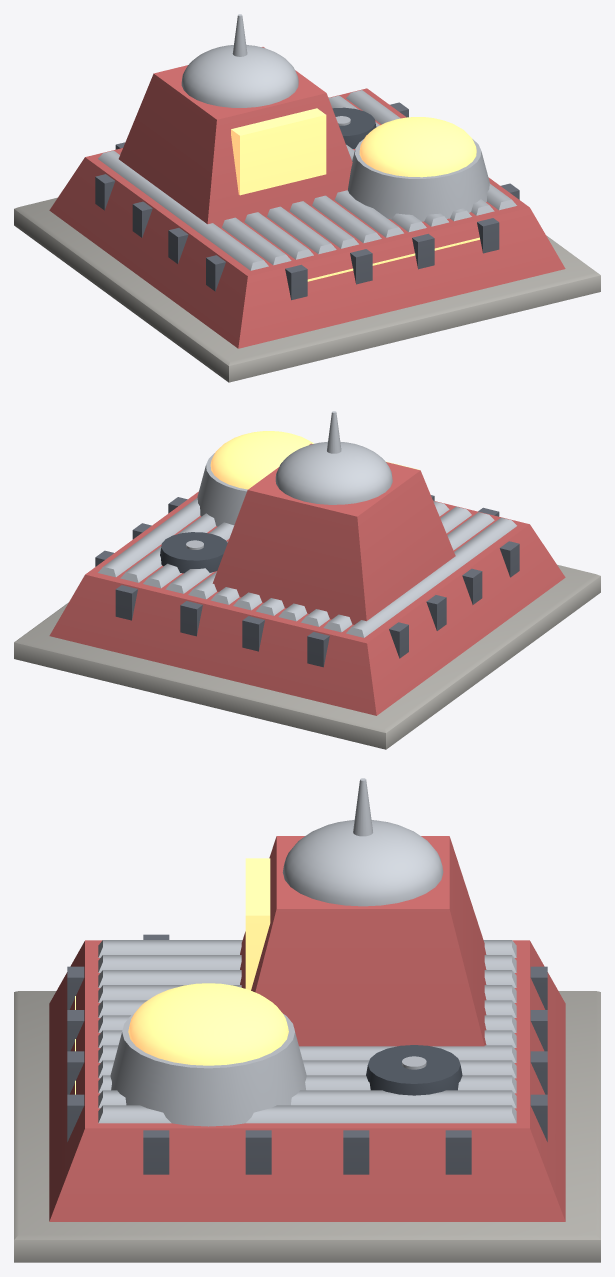
Rendered from natech.glb.
3 renders of one model, top to bottom at view 1: azimuth 30°, elevation 25°; view 2: azimuth 150°, elevation 25°; view 3: azimuth 270°, elevation 25°, orthographic. The views are drawn at different scales.
Parts seen in each view (by area): view 1: Hull; view 2: Hull; view 3: Hull.
Part boxes in pixels (x1=…): Hull: x1=14, y1=14, x2=600, y2=382; Hull: x1=14, y1=411, x2=600, y2=749; Hull: x1=14, y1=778, x2=600, y2=1262.
Size of the model in its own units: 5.13 by 3.16 by 5.13.
